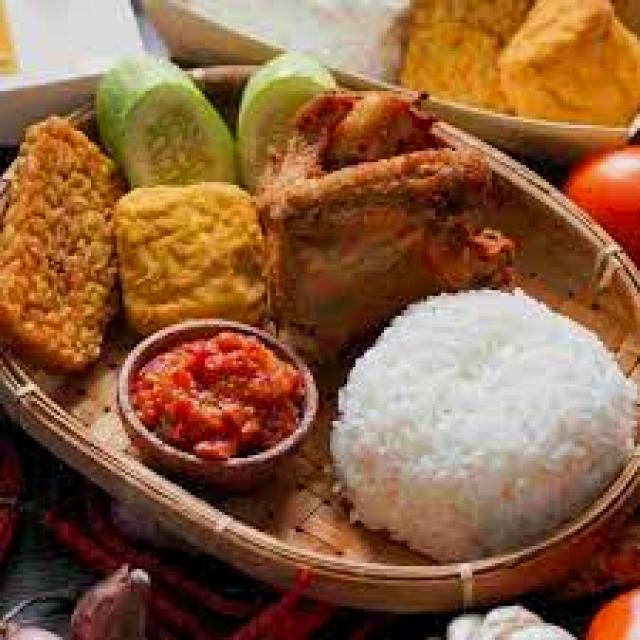nasi: (324, 287, 640, 566)
tempe goreng: (0, 117, 128, 375)
